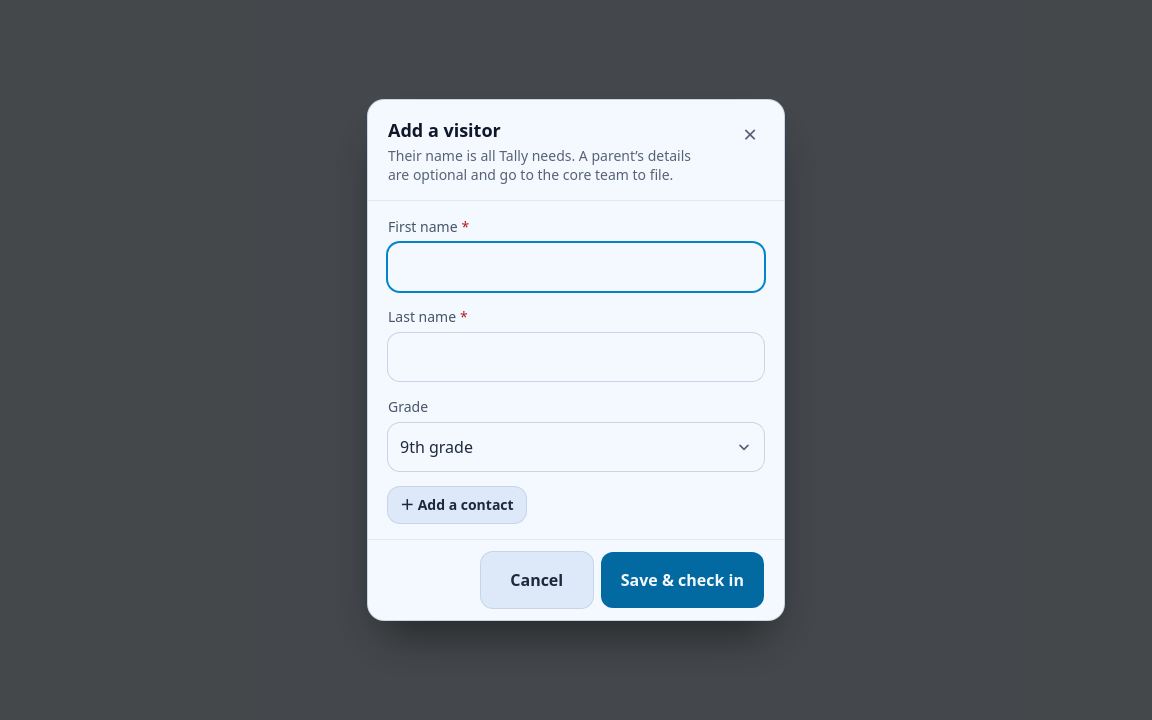
Test: the contact › says the contact failed without saying the check-in did
Type "Robin" into the field labelled "First name*".
click(576, 267); type("Robin")  # box [388,243,764,291]
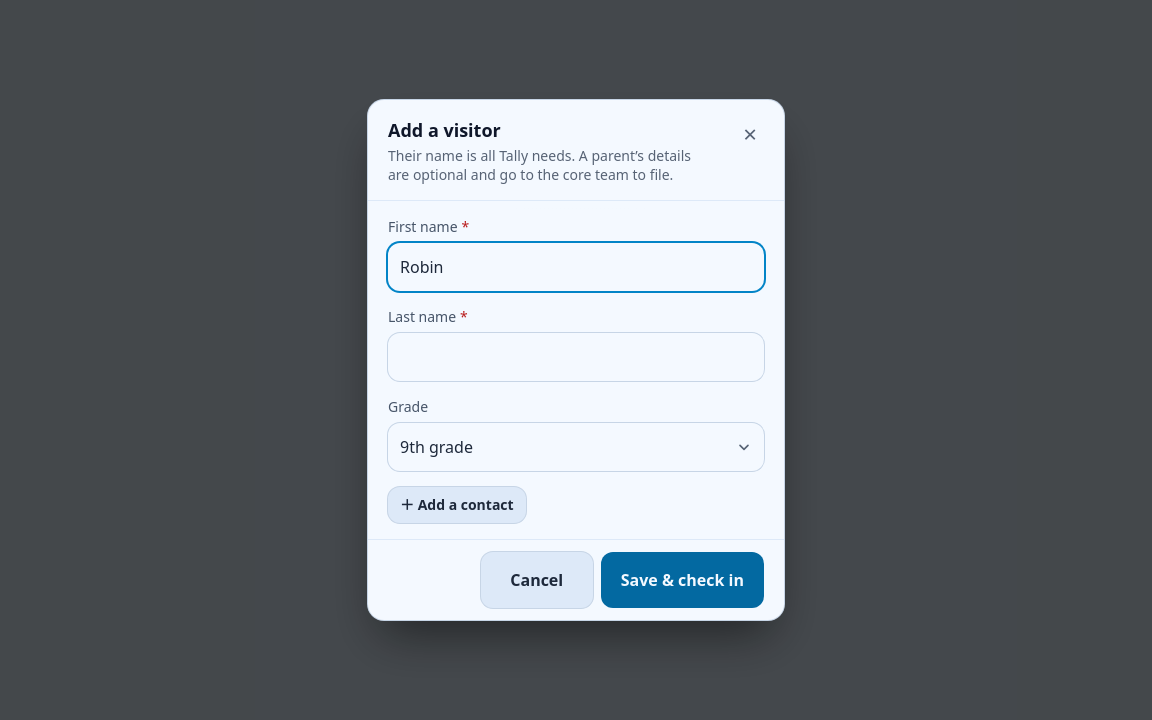
Type "Fields" into the field labelled "Last name*".
click(576, 357); type("Fields")  # box [388,333,764,381]
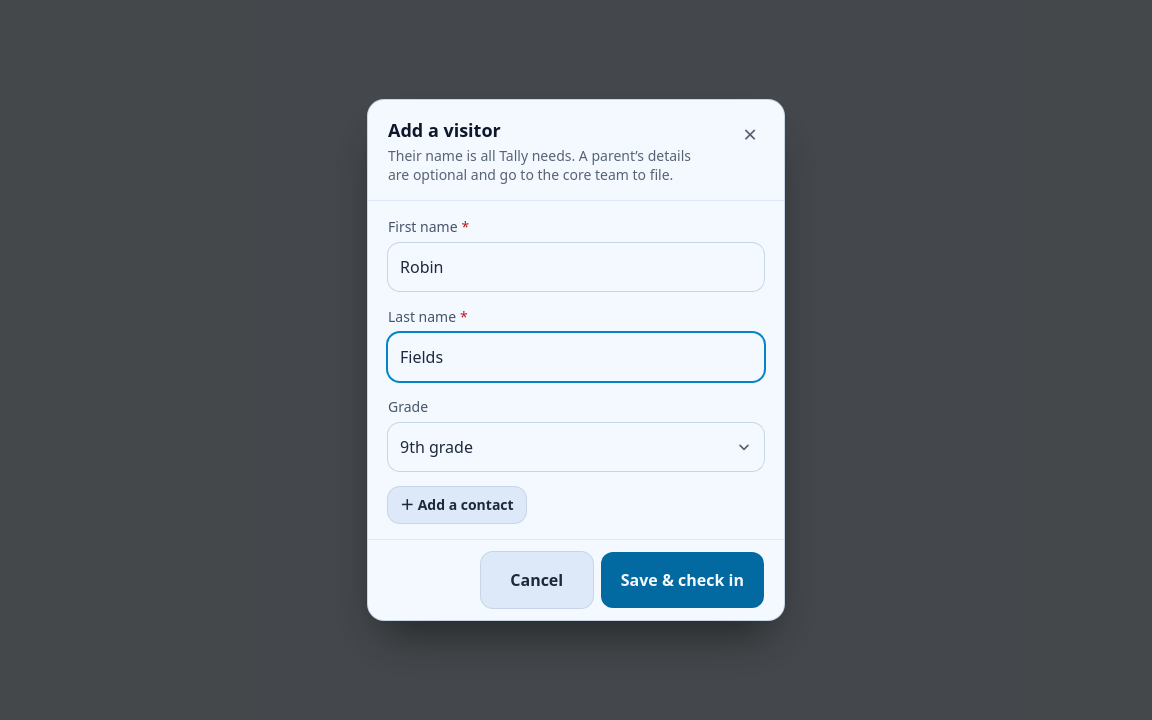
Click the button "＋ Add a contact".
click(457, 505)  # box [388,487,526,523]
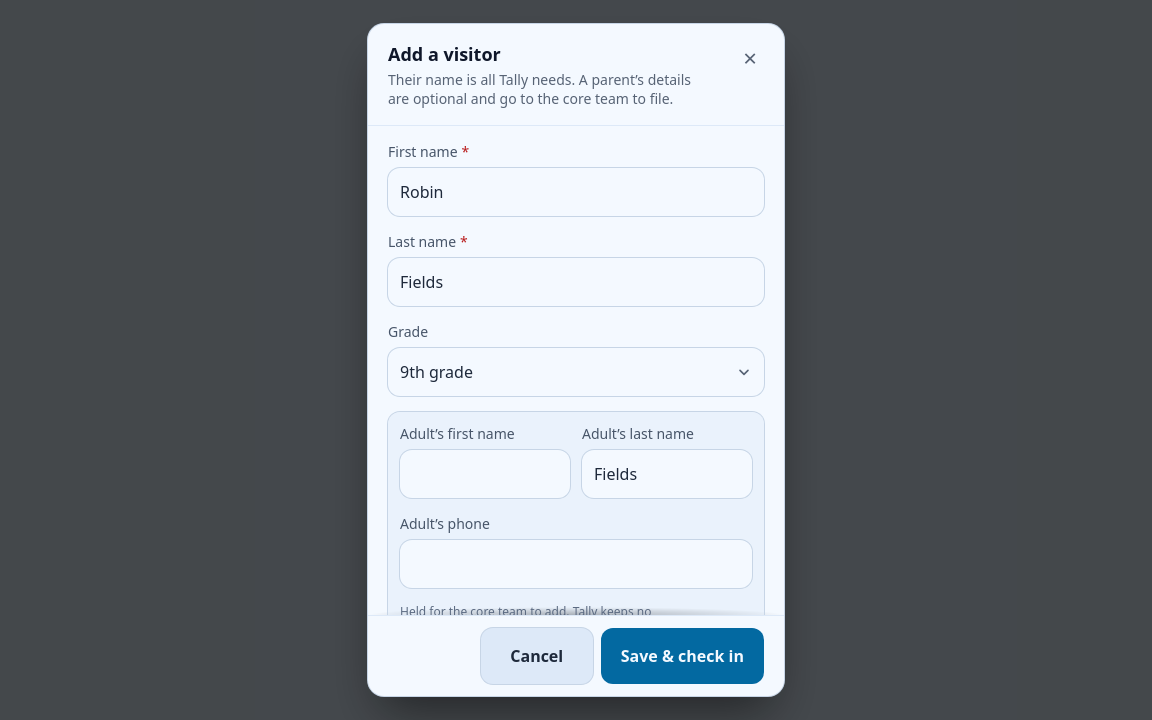
Type "Dana" into the field labelled "Adult’s first name".
click(485, 474); type("Dana")  # box [400,450,570,498]
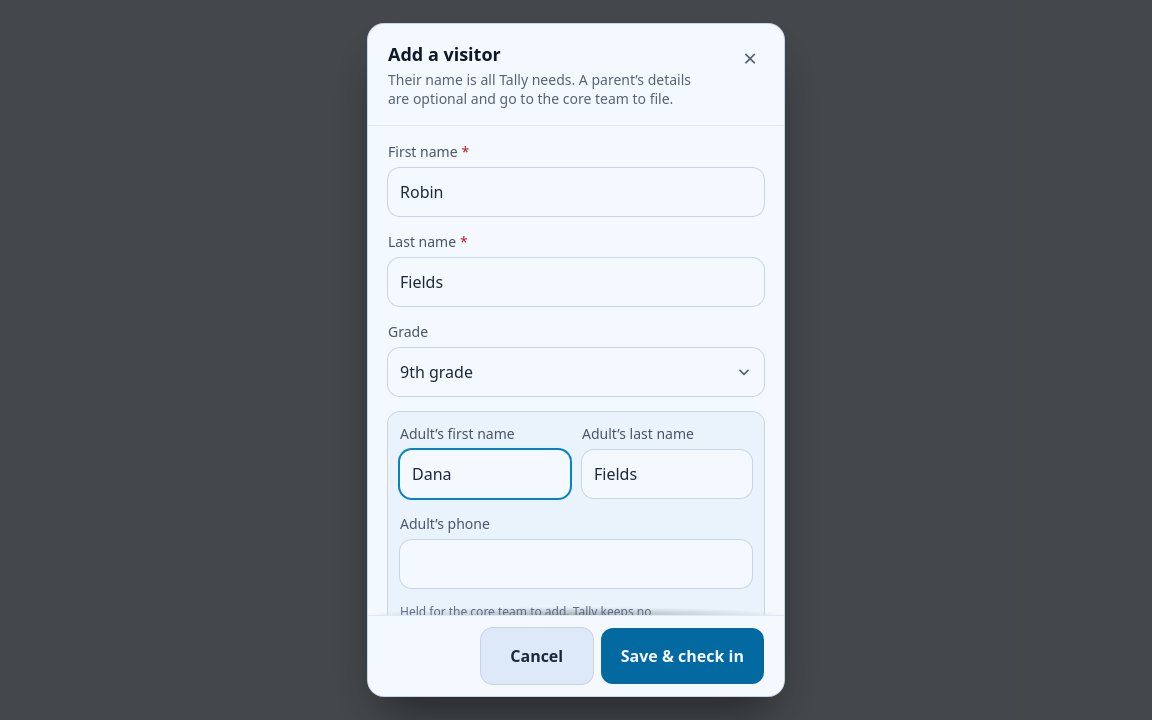
Type "5550103344" into the field labelled "Adult’s phone".
click(576, 564); type("5550103344")  # box [400,540,752,588]
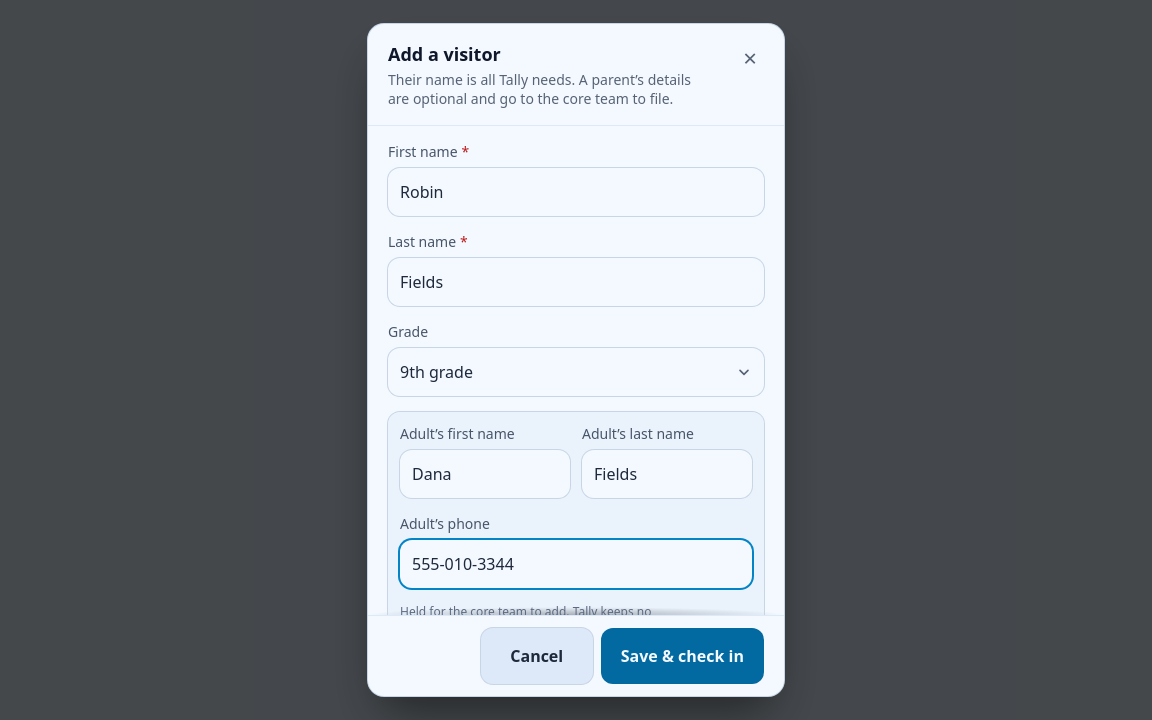
Click the button "Save & check in".
click(682, 656)  # box [601,628,764,684]
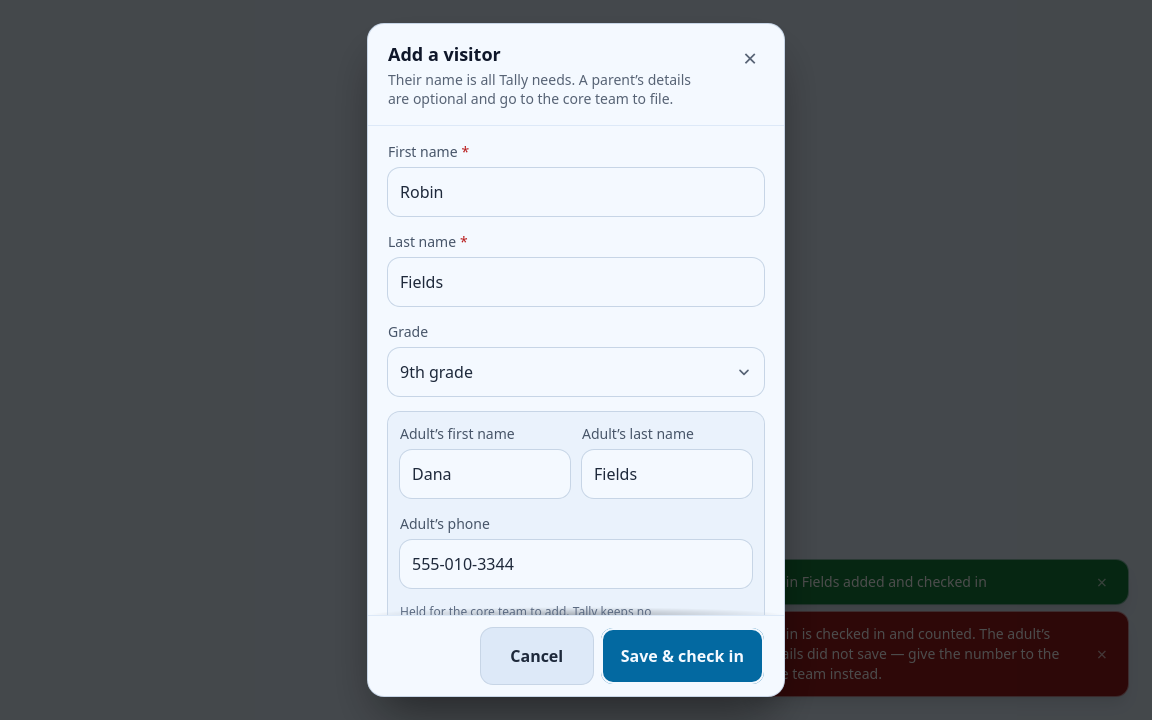
Expected: the text "details did not save" is shown, [760,624,1059,683]
